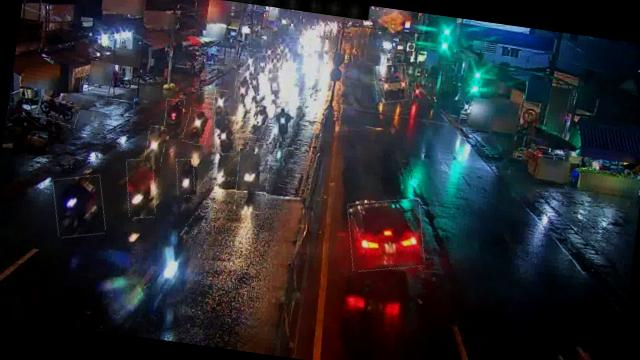Bike: (49, 172, 110, 241), (232, 139, 272, 214), (122, 156, 160, 220), (35, 96, 79, 125), (211, 114, 240, 155), (183, 108, 212, 145), (173, 158, 197, 196), (144, 126, 166, 166), (271, 106, 294, 142), (162, 98, 185, 134), (250, 104, 270, 138), (264, 72, 284, 100), (234, 72, 253, 101), (211, 89, 228, 118), (247, 74, 266, 96), (413, 81, 428, 101), (242, 49, 255, 69), (256, 54, 268, 72)
Car: (341, 192, 429, 276), (370, 62, 410, 105)
